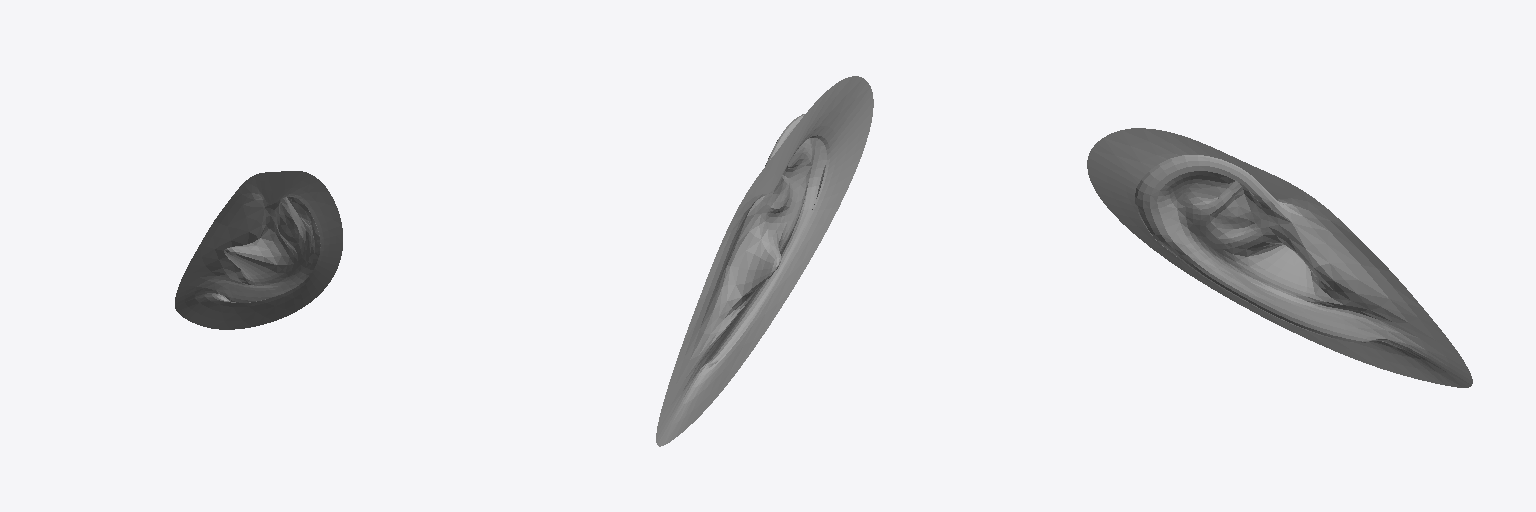
The model's file is Ear.obj.
3 views of the same model, side by side, from view 1: azimuth 30°, elevation 25°; view 2: azimuth 150°, elevation 25°; view 3: azimuth 270°, elevation 25° (orthographic).
Parts seen in each view (by area): view 1: Ear_Plane; view 2: Ear_Plane; view 3: Ear_Plane.
Part boxes in pixels (x1,y1,x2,y2): Ear_Plane: (175,171,342,329); Ear_Plane: (656,76,873,446); Ear_Plane: (1087,128,1472,387).
Size of the model in its own units: 0.1484 by 0.8631 by 1.2.